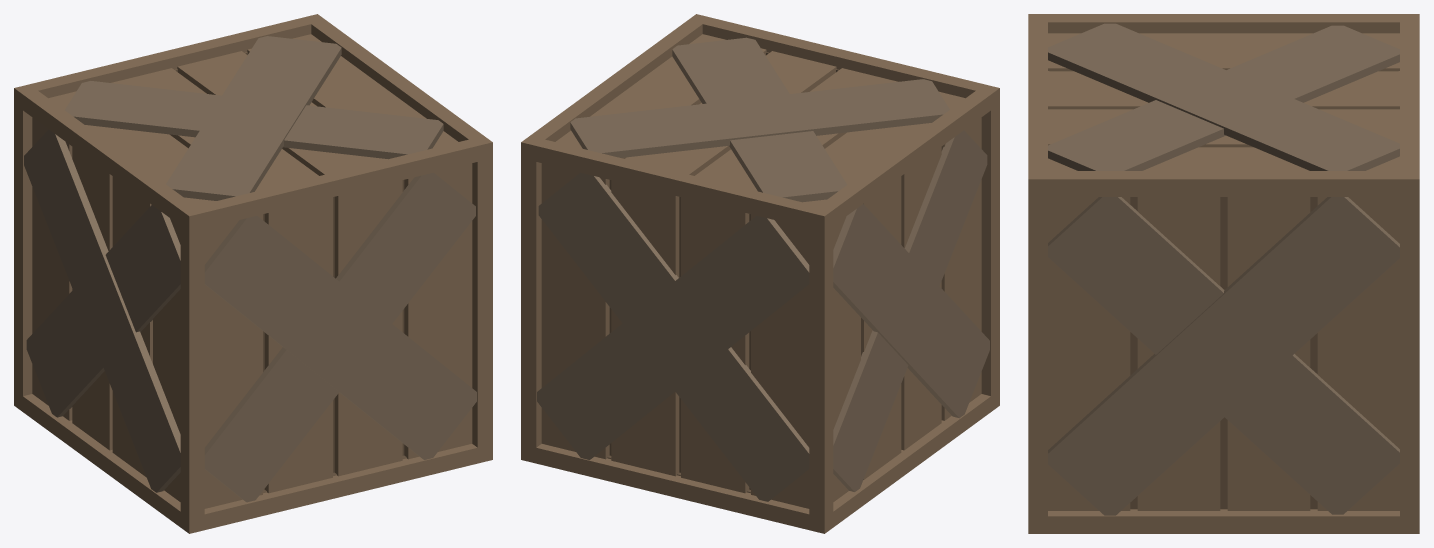
Rendered from crate.fbx.
The picture shows the model from 3 angles, left to right: view 1: azimuth 30°, elevation 25°; view 2: azimuth 150°, elevation 25°; view 3: azimuth 270°, elevation 25°; orthographic projection. The views are drawn at different scales.
Parts seen in each view (by area): view 1: crate; view 2: crate; view 3: crate.
Part boxes in pixels (x1,y1,x2,y2): crate: [14, 14, 492, 533]; crate: [521, 14, 999, 533]; crate: [1028, 14, 1419, 533].
Bounding box in the file's own units: 103 × 103 × 103.
